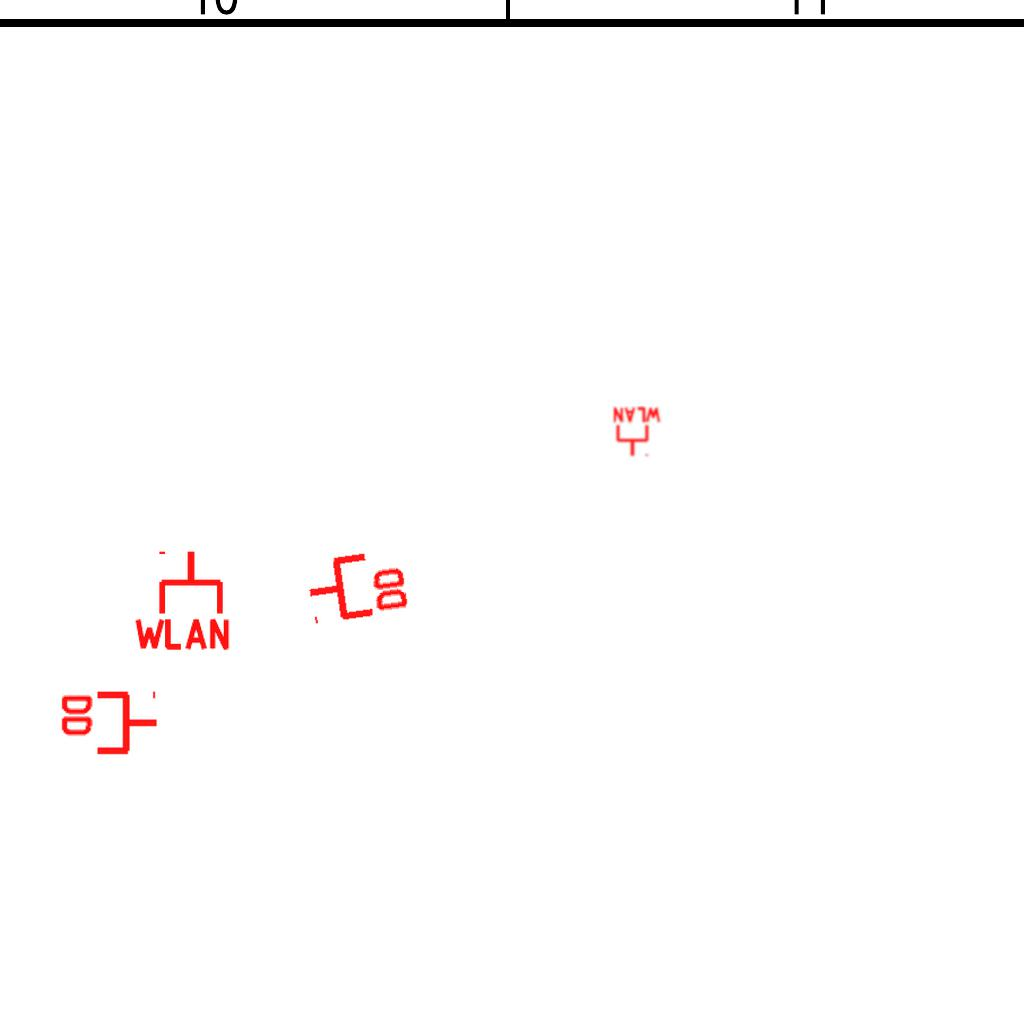Datenanschluss_zweifach: (301, 543, 414, 626), (57, 690, 160, 759)
WLAN: (130, 547, 234, 652), (611, 406, 663, 458)
